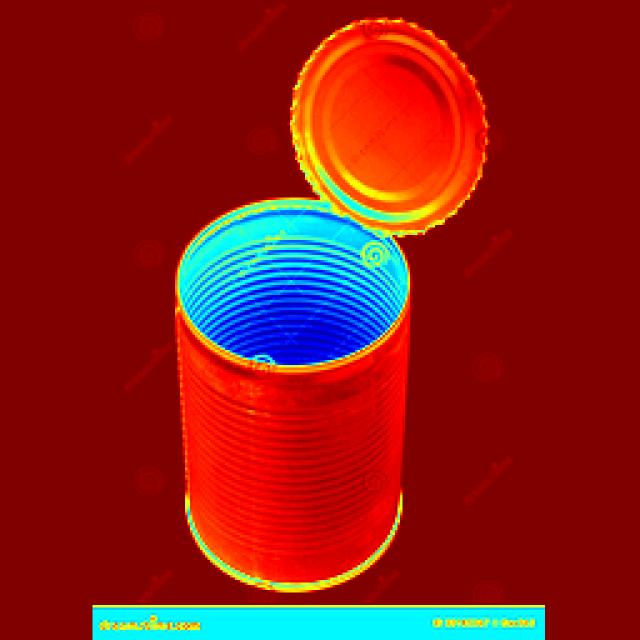Aluminium Food Cans: (184, 22, 450, 579)
